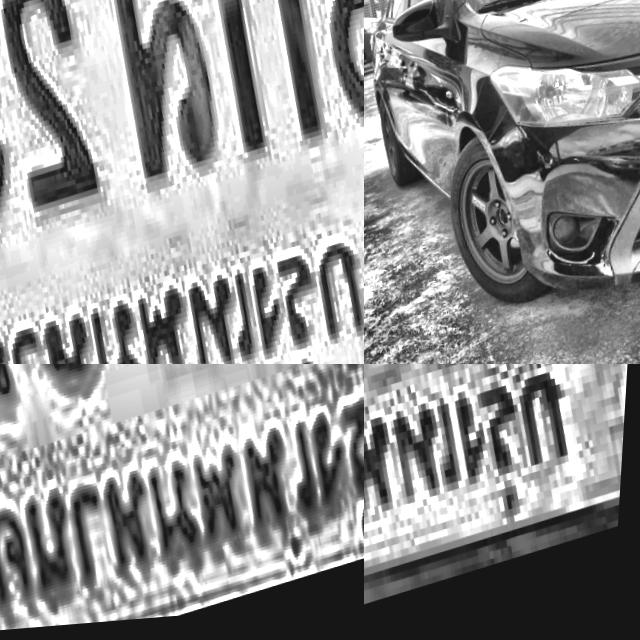license-plate: (0, 0, 364, 364), (0, 364, 364, 640), (364, 364, 640, 640)
